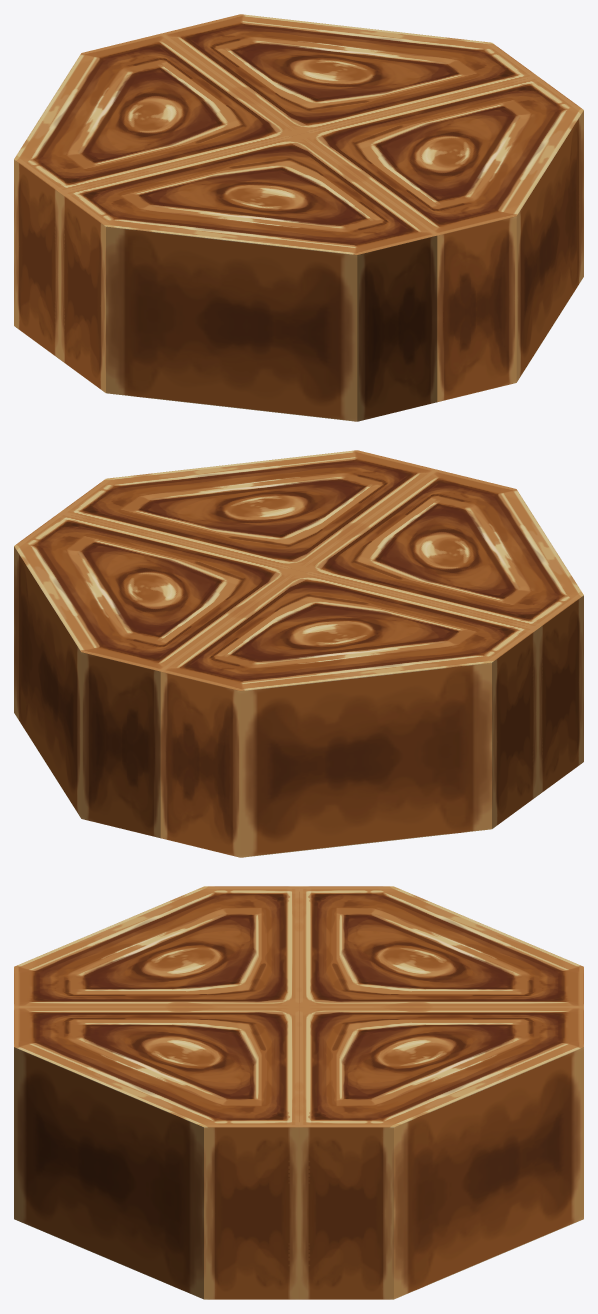
Rendered from wallBlock_01.fbx.
The picture shows the model from 3 angles, top to bottom: view 1: azimuth 30°, elevation 25°; view 2: azimuth 150°, elevation 25°; view 3: azimuth 270°, elevation 25°; orthographic projection. The views are drawn at different scales.
Parts seen in each view (by area): view 1: wallBlock_01; view 2: wallBlock_01; view 3: wallBlock_01.
Part boxes in pixels (x1,y1,x2,y2): wallBlock_01: (14,14,583,421); wallBlock_01: (14,450,583,857); wallBlock_01: (14,886,583,1299).
Size of what is drawn, in the model's own units: 3 by 1 by 3.
